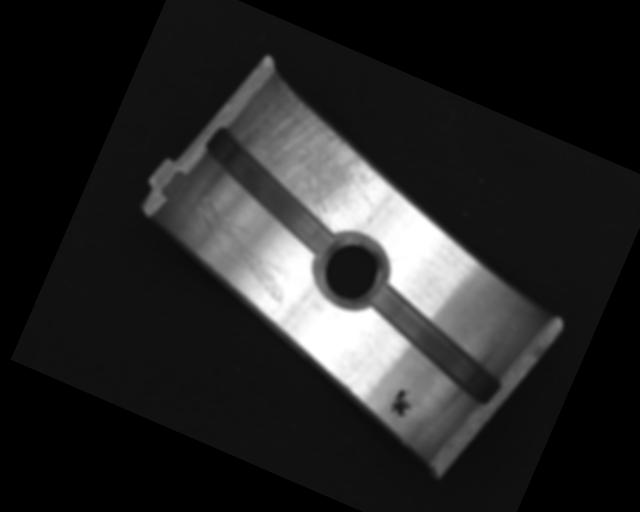blot: (385, 384, 421, 423)
gap: (183, 122, 360, 260), (349, 282, 519, 410)
hole: (309, 230, 394, 316)
nick: (177, 196, 309, 304)
scratch: (219, 73, 406, 247)
